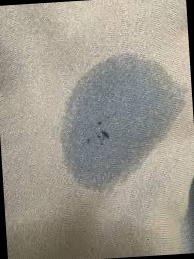ink: (56, 51, 167, 185)
